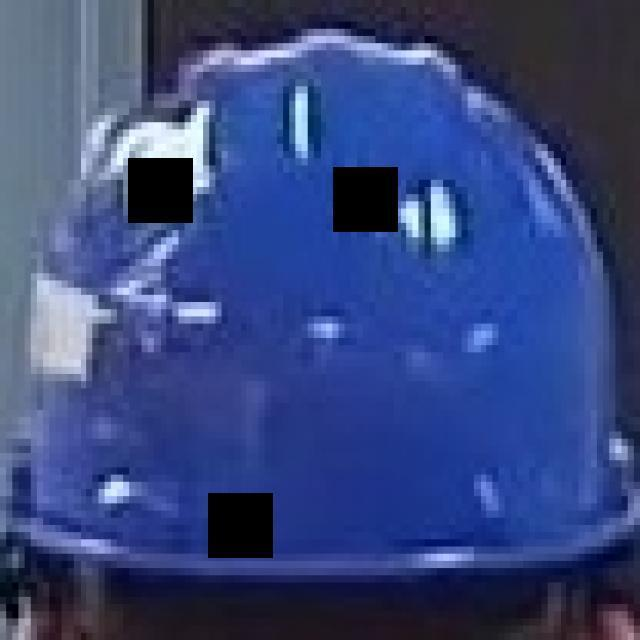blue helmet: (31, 60, 635, 577)
